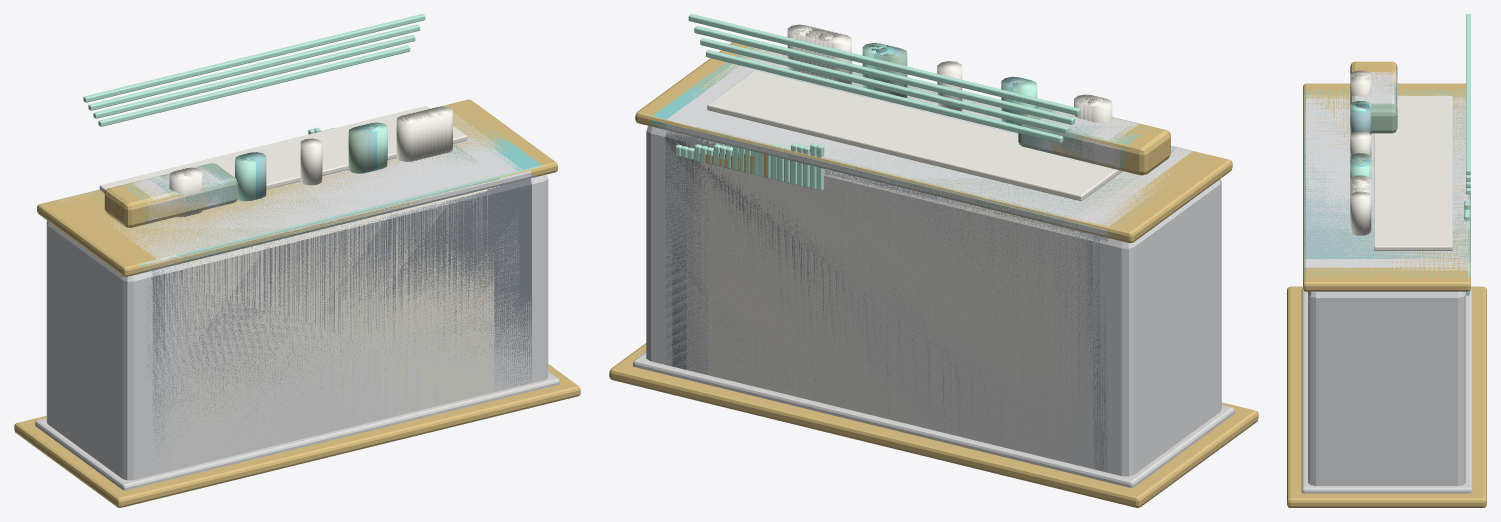
Rendered from Gear01.fbx.
3 views of the same model, side by side, from view 1: azimuth 30°, elevation 25°; view 2: azimuth 150°, elevation 25°; view 3: azimuth 270°, elevation 25° (orthographic). The views are drawn at different scales.
Visible parts, largest first — view 1: Gear01_V10_Platinum, Gear01_V2_Ivory, Gear01_V9_Platinum, Gear01_V10_Gold, Gear01_V1_Ivory, Gear01_V7_Graphite, Gear01_V8_Graphite, Gear01_V4_Platinum, Gear01_V5_Platinum, Gear01_V6_Platinum, Gear01_V9_Gold, Gear01_V10_Linen (+17 smaller); view 2: Gear01_V10_Platinum, Gear01_V6_Platinum, Gear01_V1_Ivory, Gear01_V2_Ivory, Gear01_V9_Platinum, Gear01_V10_Gold, Gear01_V5_Platinum, Gear01_V4_Linen, Gear01_V3_Linen, Gear01_V9_Linen, Gear01_V8_Linen, Gear01_V8_Graphite (+23 smaller); view 3: Gear01_V10_Platinum, Gear01_V10_Gold, Gear01_V5_Platinum, Gear01_V10_Linen, Gear01_V2_Blue, Gear01_V9_Gold, Gear01_V5_Linen, Gear01_V10_Chrome, Gear01_V6_Platinum, Gear01_V8_Linen, Gear01_V4_Platinum, Gear01_V6_Linen (+15 smaller).
Boxes of the visible parts, x1,y1,x2,y2 form: Gear01_V10_Platinum: (46,174,548,480); Gear01_V2_Ivory: (183,214,494,429); Gear01_V9_Platinum: (140,183,538,475); Gear01_V10_Gold: (14,99,580,507); Gear01_V1_Ivory: (189,189,488,465); Gear01_V7_Graphite: (152,182,525,459); Gear01_V8_Graphite: (146,178,531,392); Gear01_V4_Platinum: (124,133,516,264); Gear01_V5_Platinum: (103,125,522,471); Gear01_V6_Platinum: (76,105,531,470); Gear01_V9_Gold: (23,106,572,506); Gear01_V10_Linen: (99,106,467,217); Gear01_V10_Platinum: (646,126,1221,476); Gear01_V6_Platinum: (666,49,1169,468); Gear01_V1_Ivory: (715,142,1057,459); Gear01_V2_Ivory: (708,141,1063,458); Gear01_V9_Platinum: (658,129,1115,449); Gear01_V10_Gold: (609,42,1258,507); Gear01_V5_Platinum: (685,51,1192,409); Gear01_V4_Linen: (694,31,1079,461); Gear01_V3_Linen: (701,32,1071,405); Gear01_V9_Linen: (713,26,1110,199); Gear01_V8_Linen: (719,26,1104,197); Gear01_V8_Graphite: (665,130,1108,471); Gear01_V10_Platinum: (1308,291,1465,485); Gear01_V10_Gold: (1287,61,1486,507); Gear01_V5_Platinum: (1304,74,1468,267); Gear01_V10_Linen: (1350,70,1452,250); Gear01_V2_Blue: (1303,83,1470,260); Gear01_V9_Gold: (1287,66,1486,497); Gear01_V5_Linen: (1350,107,1451,234); Gear01_V10_Chrome: (1301,288,1472,493); Gear01_V6_Platinum: (1303,72,1468,271); Gear01_V8_Linen: (1350,74,1452,241); Gear01_V4_Platinum: (1303,79,1468,264); Gear01_V6_Linen: (1350,105,1452,237).
Bounding box in the file's own units: 193 × 130 × 76.
